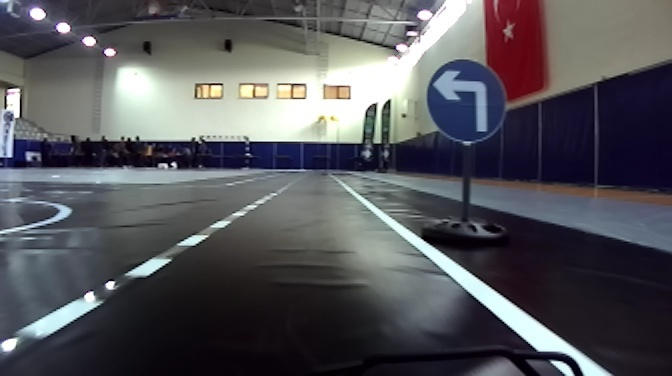sola_donus: (425, 52, 510, 144)
